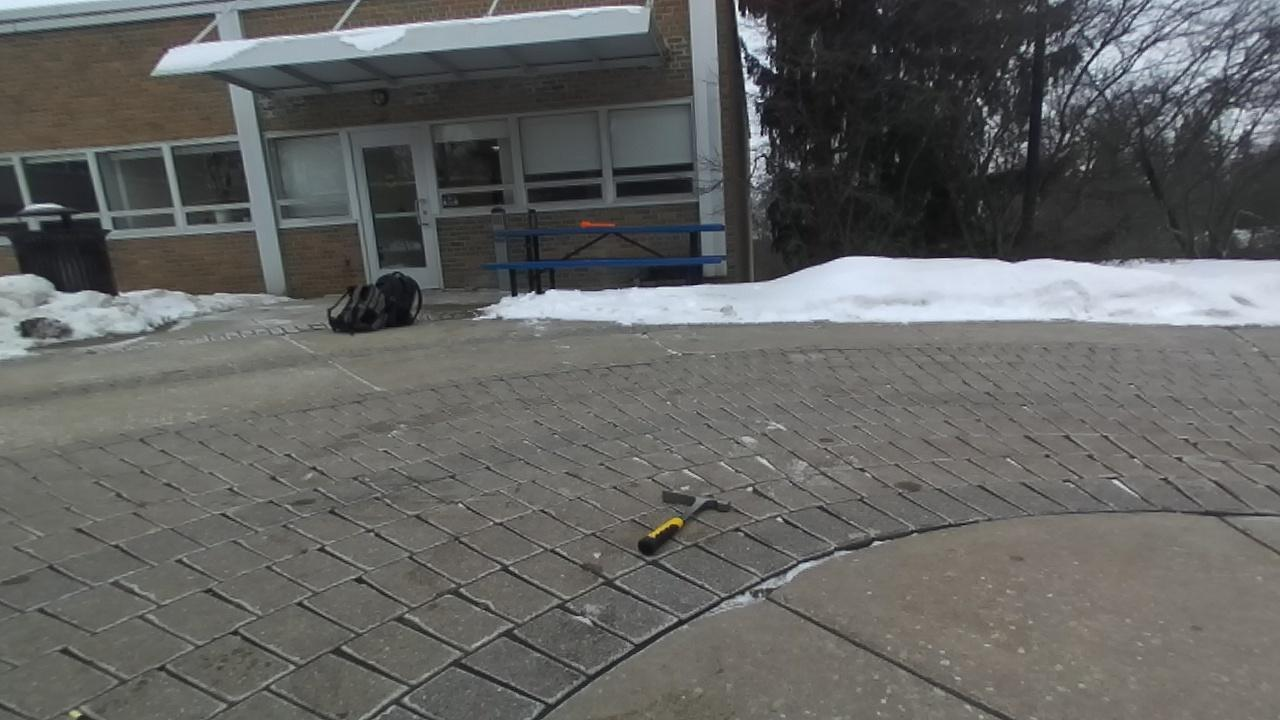pick: (638, 492, 732, 555)
